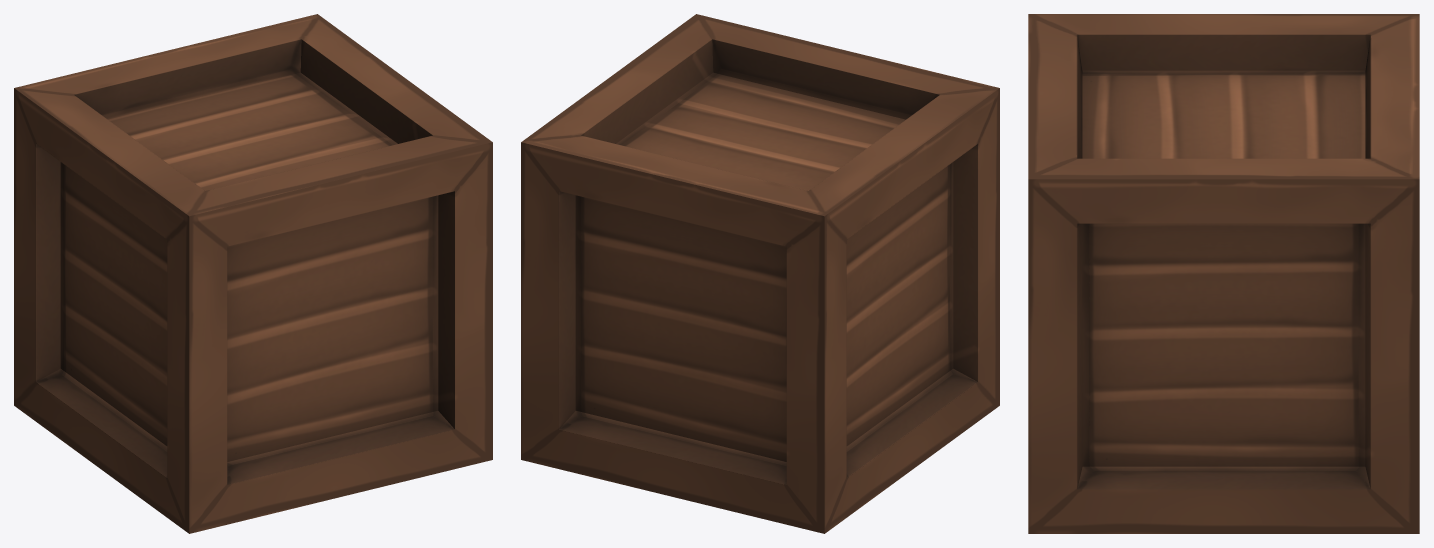
Rendered from Crate.fbx.
3 views of the same model, side by side, from view 1: azimuth 30°, elevation 25°; view 2: azimuth 150°, elevation 25°; view 3: azimuth 270°, elevation 25° (orthographic). The views are drawn at different scales.
Visible parts, largest first — view 1: polySurface2; view 2: polySurface2; view 3: polySurface2.
Boxes of the visible parts, x1,y1,x2,y2 form: polySurface2: (14, 14, 492, 533); polySurface2: (521, 14, 999, 533); polySurface2: (1028, 14, 1419, 533).
Bounding box in the file's own units: 129 × 129 × 129.
